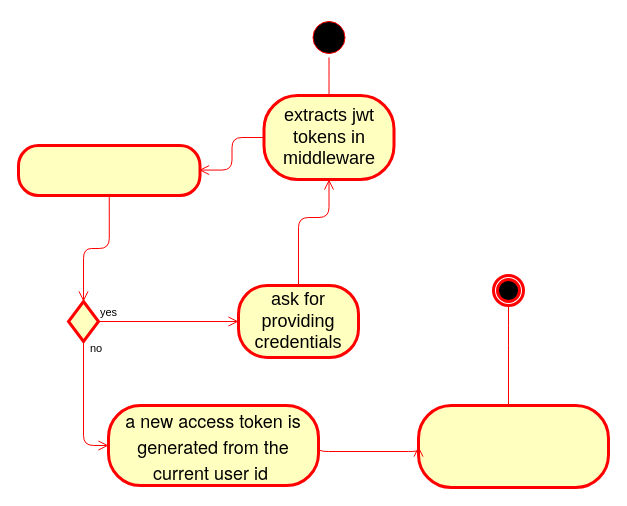
The diagram is 627 pixels wide and 506 high, and some of its shapes have lost their labels. Here are the shapes that lost their labels. From the top down, the centre of each, then its label:
At pixel 108 170: "any miss of tokens".
At pixel 513 446: "give back the generated token and save in coockie".
